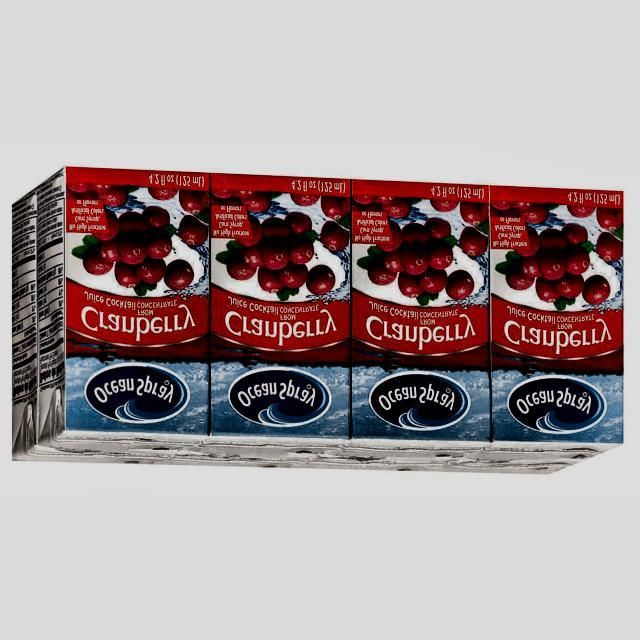cardboard: (11, 167, 624, 474)
